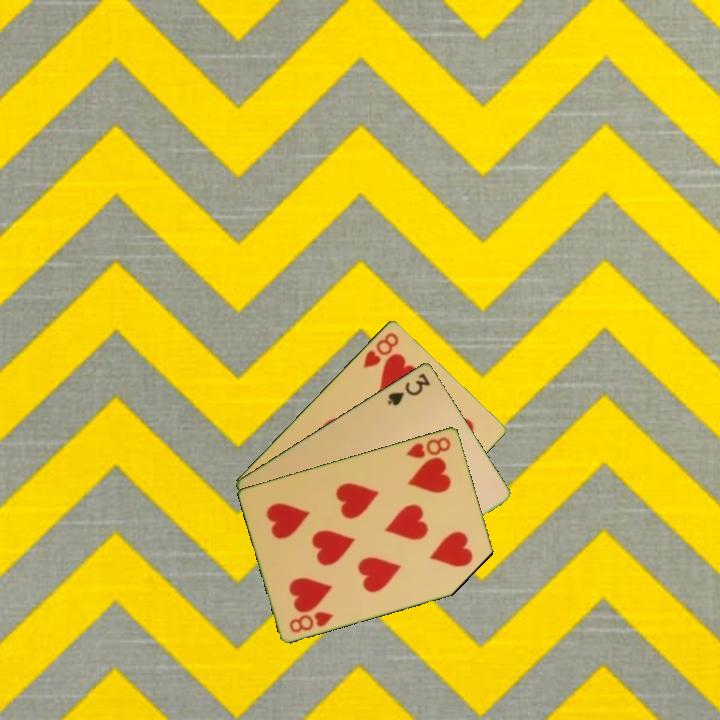3s: (384, 369, 433, 408)
8h: (360, 329, 402, 371), (402, 433, 454, 461), (286, 607, 336, 635)
